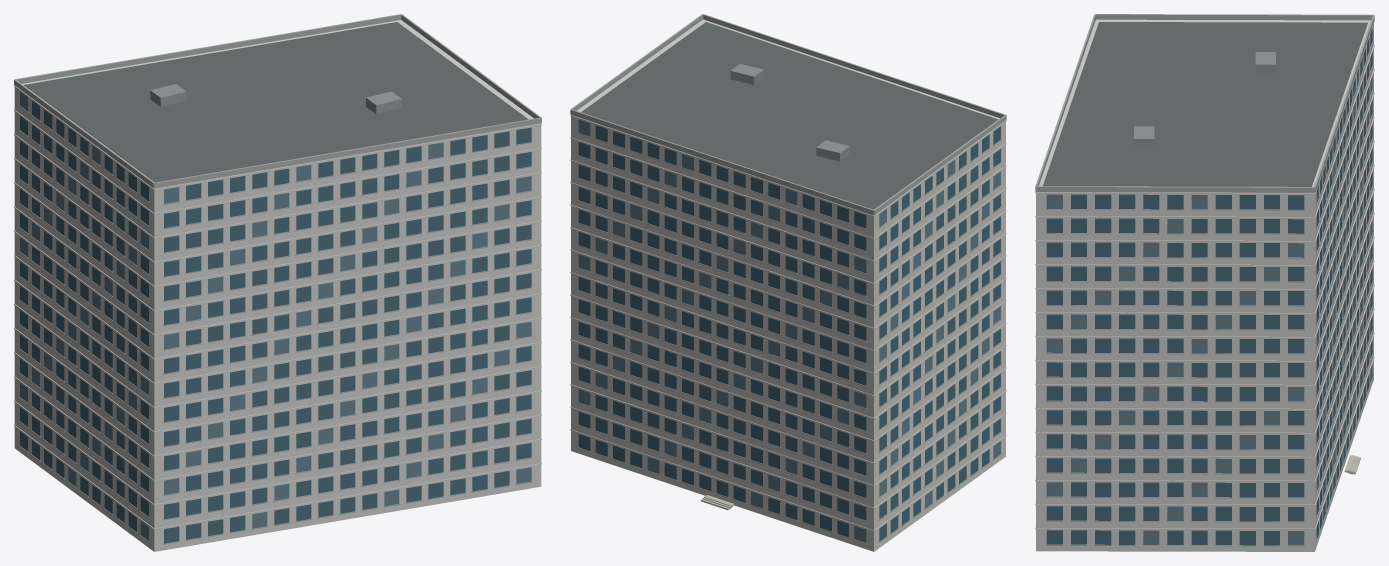
The model's file is 东侧办公园区-028.glb.
3 views of the same model, side by side, from view 1: azimuth 30°, elevation 25°; view 2: azimuth 150°, elevation 25°; view 3: azimuth 270°, elevation 25° (orthographic). The views are drawn at different scales.
Visible parts, largest first — view 1: 东侧办公园区-028; view 2: 东侧办公园区-028; view 3: 东侧办公园区-028.
Part boxes in pixels (left/top/right/bottom): 东侧办公园区-028: left=14, top=14, right=541, bottom=551; 东侧办公园区-028: left=570, top=14, right=1006, bottom=551; 东侧办公园区-028: left=1035, top=14, right=1374, bottom=551.
Bounding box in the file's own units: 55.89 × 55.42 × 46.19.
